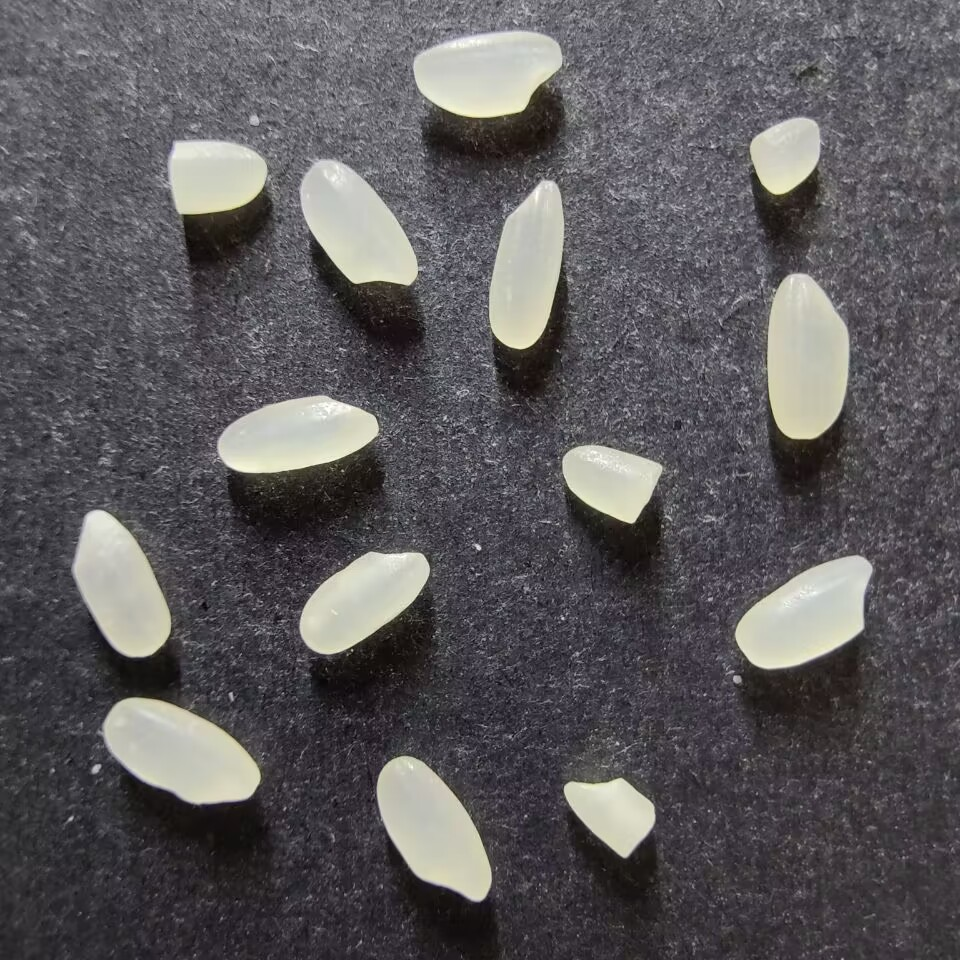broken: (560, 444, 663, 525), (562, 777, 656, 859), (166, 139, 267, 214), (748, 117, 820, 195)
rice: (375, 755, 493, 902), (102, 697, 261, 804), (734, 555, 873, 670), (298, 158, 418, 286), (70, 509, 171, 657), (765, 271, 849, 440), (298, 550, 430, 655), (411, 29, 563, 118), (487, 179, 565, 349), (216, 394, 379, 474)
